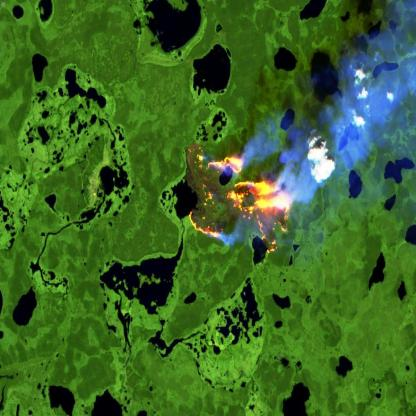fire: (186, 140, 298, 260)
